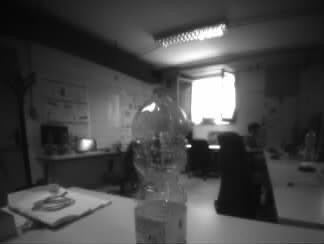Bottle: (132, 90, 187, 244)
